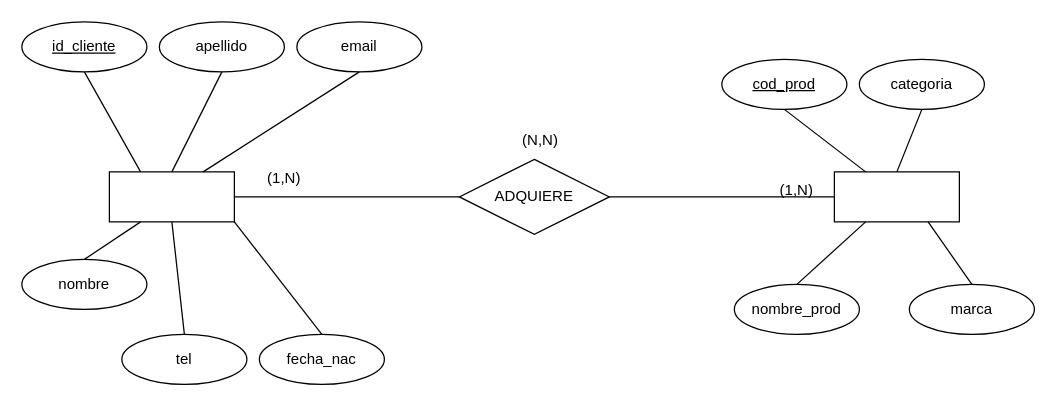
Some shapes in this 1056 by 406 pixel diagram are drawn without their labels. The shapes that lost their labels are listed below. From the top down, each one's centre as x and y in pixels, then its label:
At [171,196]: "CLIENTE".
At [896,196]: "PRODUCTO".
